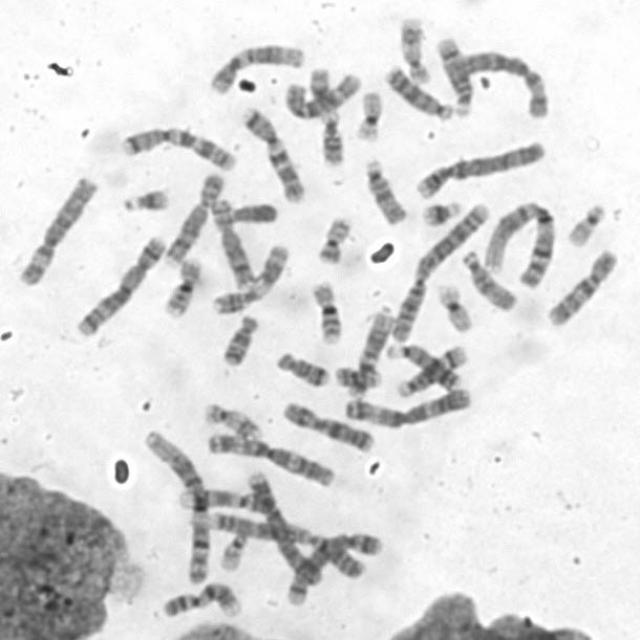A1: (139, 425, 212, 588), (481, 198, 557, 290)
A2: (386, 197, 492, 345), (200, 508, 372, 580)
A3: (205, 428, 338, 489), (340, 384, 473, 429)
B4: (243, 466, 324, 586), (410, 136, 548, 200)
B5: (72, 232, 168, 338), (282, 527, 385, 608)
C10: (540, 244, 619, 329), (280, 69, 364, 124)
C11: (206, 240, 292, 317), (306, 64, 344, 170)
C12: (208, 41, 307, 96), (343, 307, 397, 398)
C6: (13, 172, 98, 288), (444, 50, 551, 120)
C7: (237, 103, 306, 204), (116, 122, 240, 172)
C8: (160, 170, 227, 268), (208, 197, 255, 291)
C9: (158, 578, 245, 621), (172, 484, 272, 514)
D13: (385, 339, 466, 395), (382, 63, 453, 121)
D14: (396, 343, 470, 402), (432, 34, 474, 118)
D15: (459, 246, 518, 313), (361, 154, 409, 227)
E16: (160, 256, 204, 320), (308, 276, 346, 344)
E17: (200, 399, 264, 443), (397, 12, 432, 86)
E18: (217, 311, 260, 369), (273, 346, 330, 388)
F19: (434, 280, 474, 333), (353, 87, 386, 143)
F20: (312, 212, 356, 266), (329, 360, 383, 392)
G21: (118, 184, 172, 214), (418, 196, 462, 228)
G22: (564, 200, 606, 247), (216, 527, 251, 572)
X: (279, 398, 377, 454)
Y: (229, 201, 279, 225)
